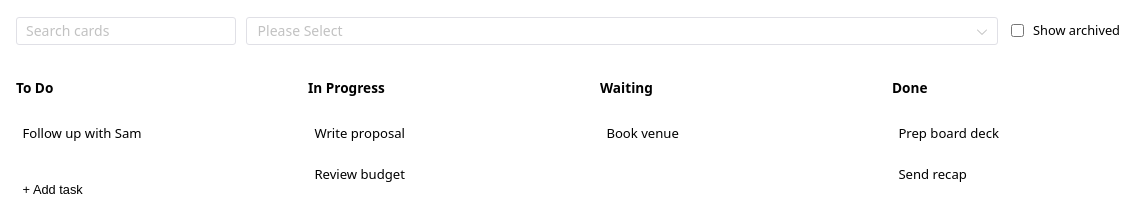
it: Board filtering - US1: find a card by typing › typing "SAM" narrows live on the input event with no fetch and no button press, showing the indicator and clear control (scenario 2)
Expected: the heading "To Do" is shown, [16,78,53,97]
Type "SAM" into the field with test id "board-search-input".
click(126, 31); type("SAM")  # box [26,17,226,45]
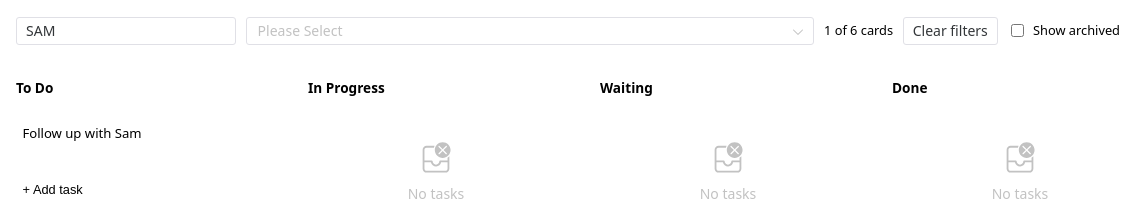
Now the element with test id "lane-empty" below "In Progress" is shown, box [408,141,464,203]
Now the element with test id "lane-empty" below "Waiting" is shown, box [700,141,756,203]
Now the element with test id "lane-empty" below "Done" is shown, box [992,141,1048,203]
